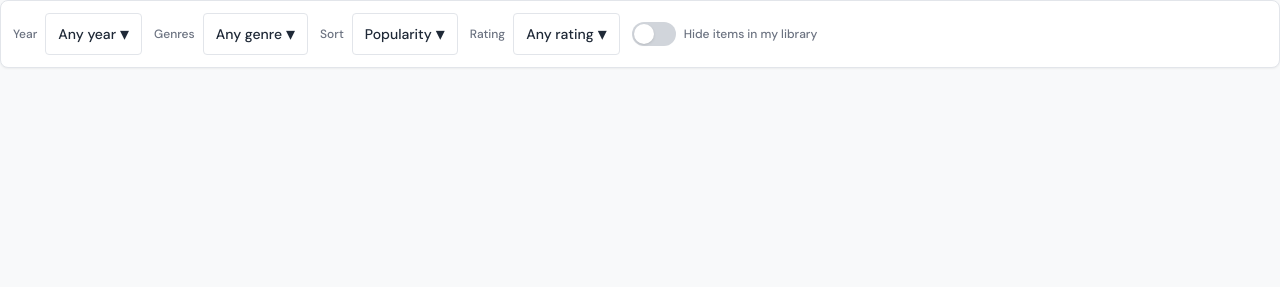
Test case: DiscoverFilterBar › names every control without nesting labels
The image size is (1280, 287).
Click the button with aria-label "Genres: " at (255, 34), box [203,13,308,55]
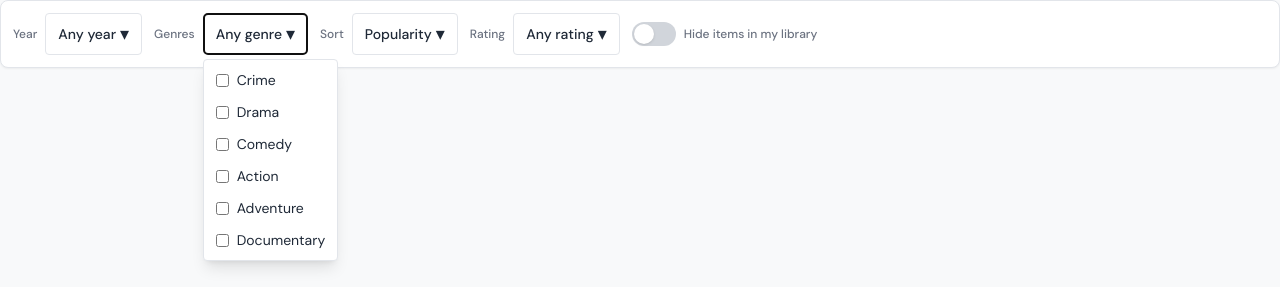
Expected: the button with aria-label "Release year: Any year" is shown, [45,13,142,55]
Now the checkbox labelled "Drama" is shown, box [216,106,229,118]
